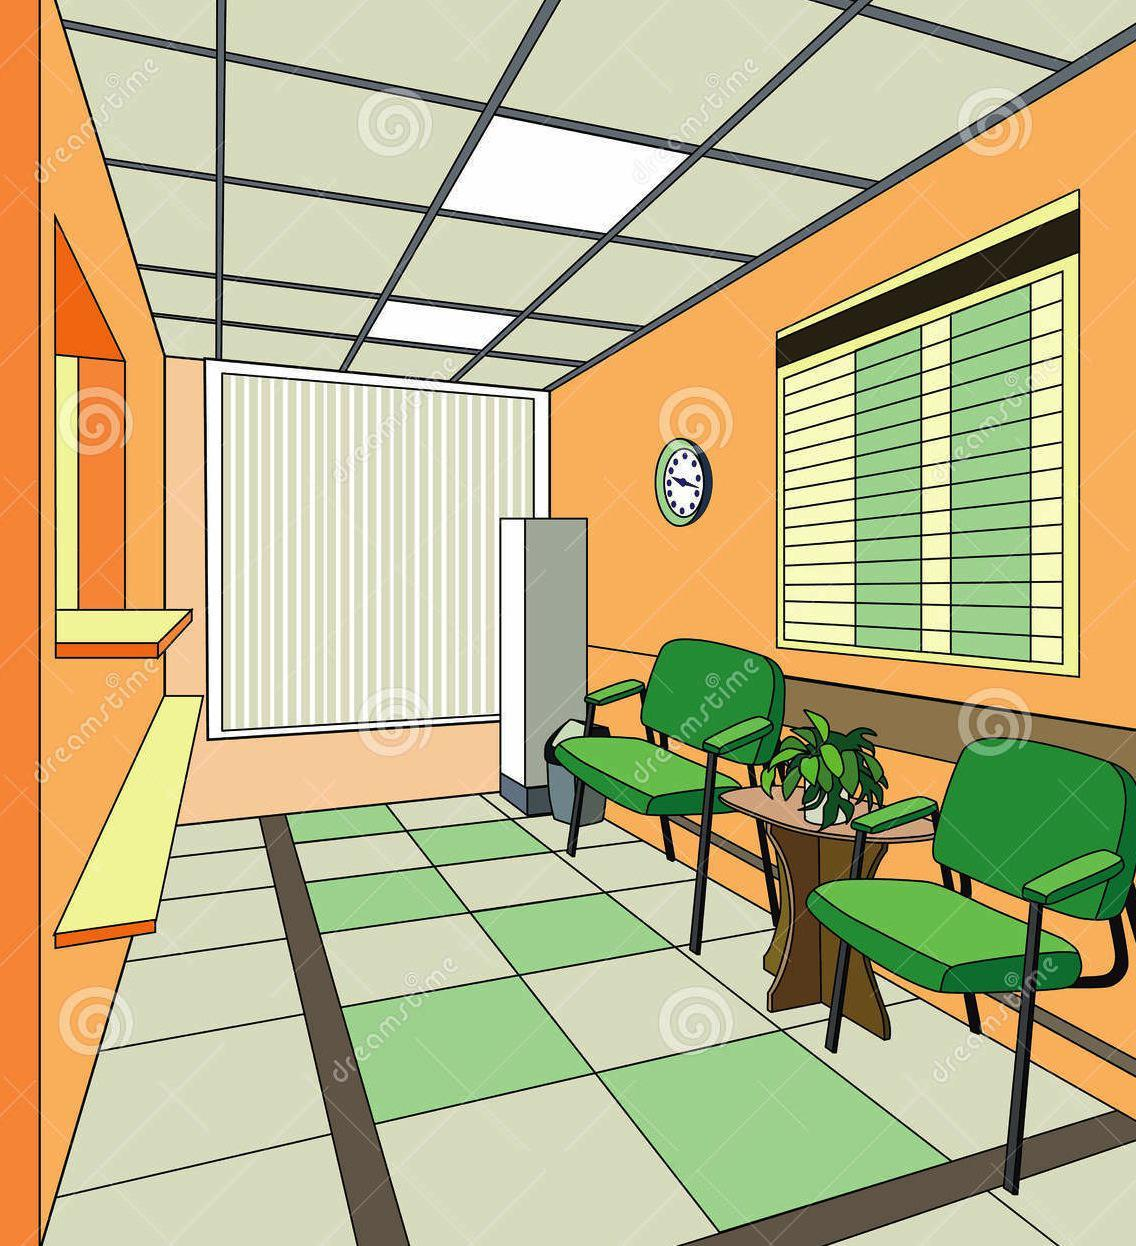chair: (809, 724, 1136, 1196), (552, 637, 809, 955)
